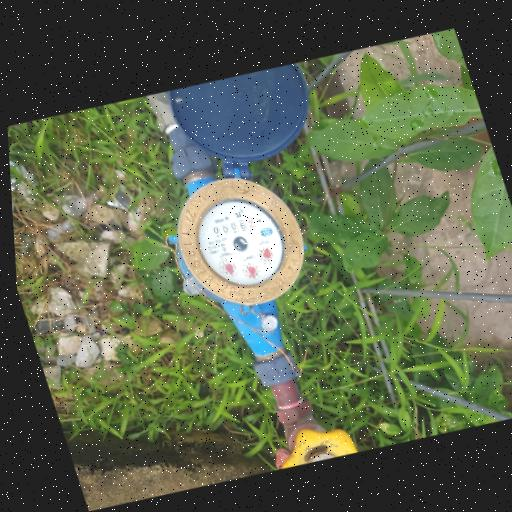0: (211, 223, 223, 238), (220, 223, 231, 235), (229, 221, 240, 233)
2: (246, 216, 256, 229)
6: (237, 218, 248, 231)
border_water_meter_number: (209, 213, 258, 242)
